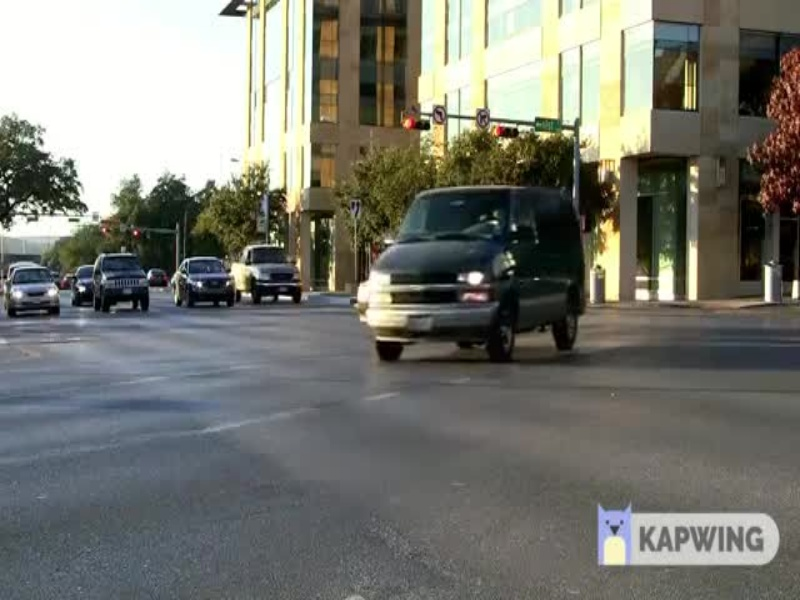car: (363, 179, 582, 371), (222, 242, 315, 304), (85, 249, 154, 311), (167, 254, 235, 306), (4, 266, 64, 319)
